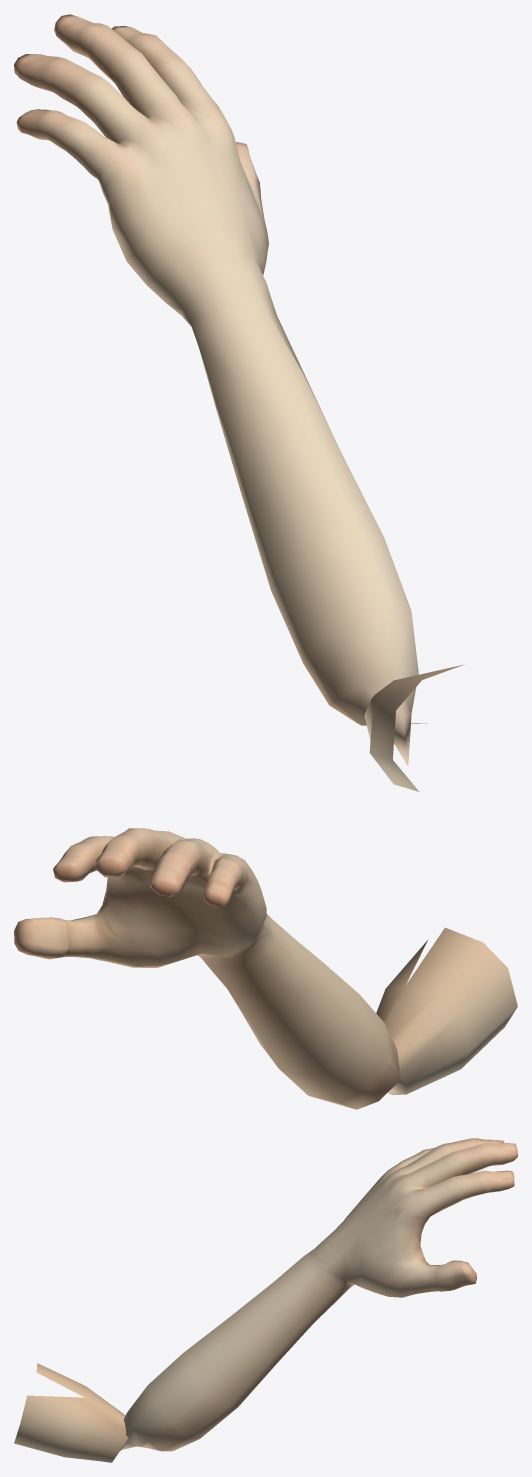
File: BackRightHandAnchor.glb
3 views of the same model, one above another, from view 1: azimuth 30°, elevation 25°; view 2: azimuth 150°, elevation 25°; view 3: azimuth 270°, elevation 25° (orthographic). The views are drawn at different scales.
Visible parts, largest first — view 1: Model; view 2: Model; view 3: Model.
Boxes of the visible parts, <box> form: Model: <box>14,14,464,791</box>; Model: <box>14,828,517,1109</box>; Model: <box>14,1138,517,1462</box>.
Bounding box in the file's own units: 0.0997 × 0.2107 × 0.3035.
1 material, 1 textured.
